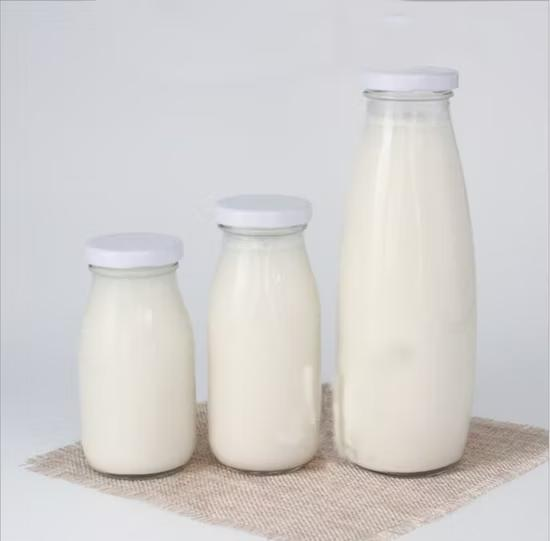produk_susu: (365, 135, 459, 441), (223, 259, 302, 455), (90, 290, 180, 461)
